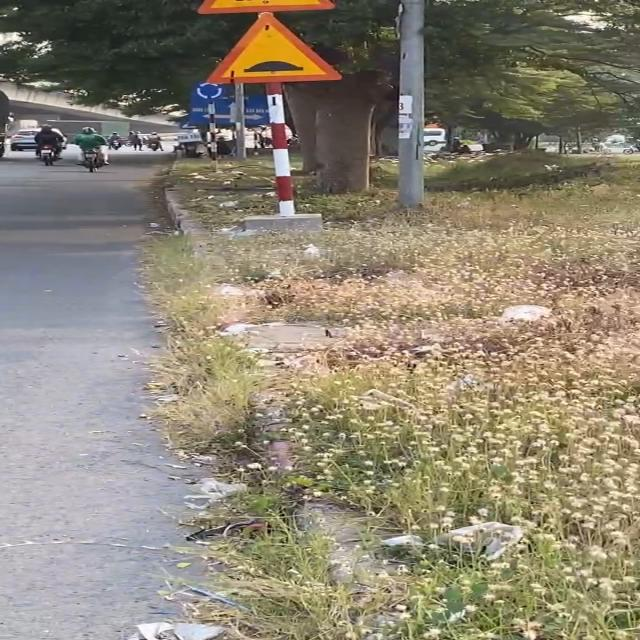221-duong-go-ghe: (204, 15, 348, 84)
303-noi-giao-nhau-chay-theo-vong-xuyen: (192, 80, 225, 100)
